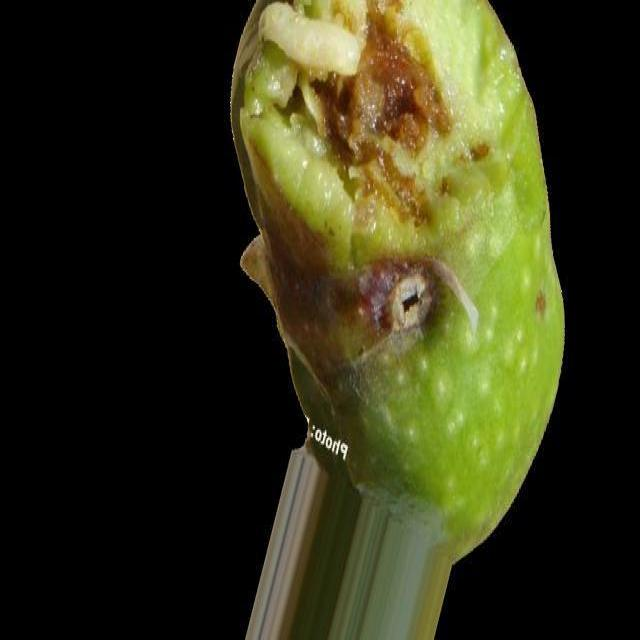Olive Fruit Fly: (232, 0, 563, 538)
